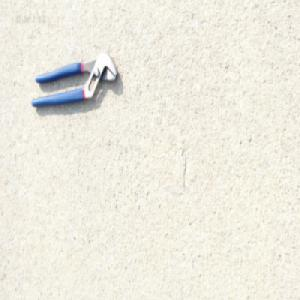Pliers: (30, 48, 120, 106)
